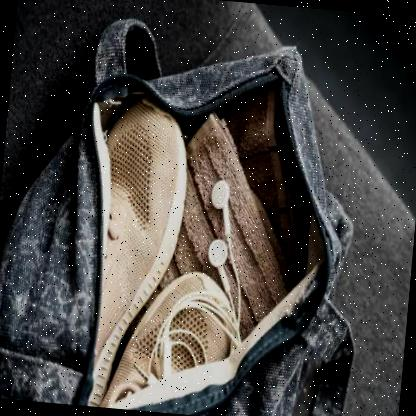bag: (0, 4, 374, 416)
